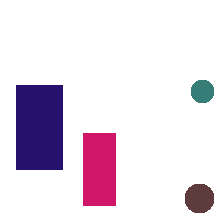circle: (185, 184, 213, 212), (191, 80, 213, 102)
rectangle: (16, 85, 62, 169), (83, 133, 115, 205)
